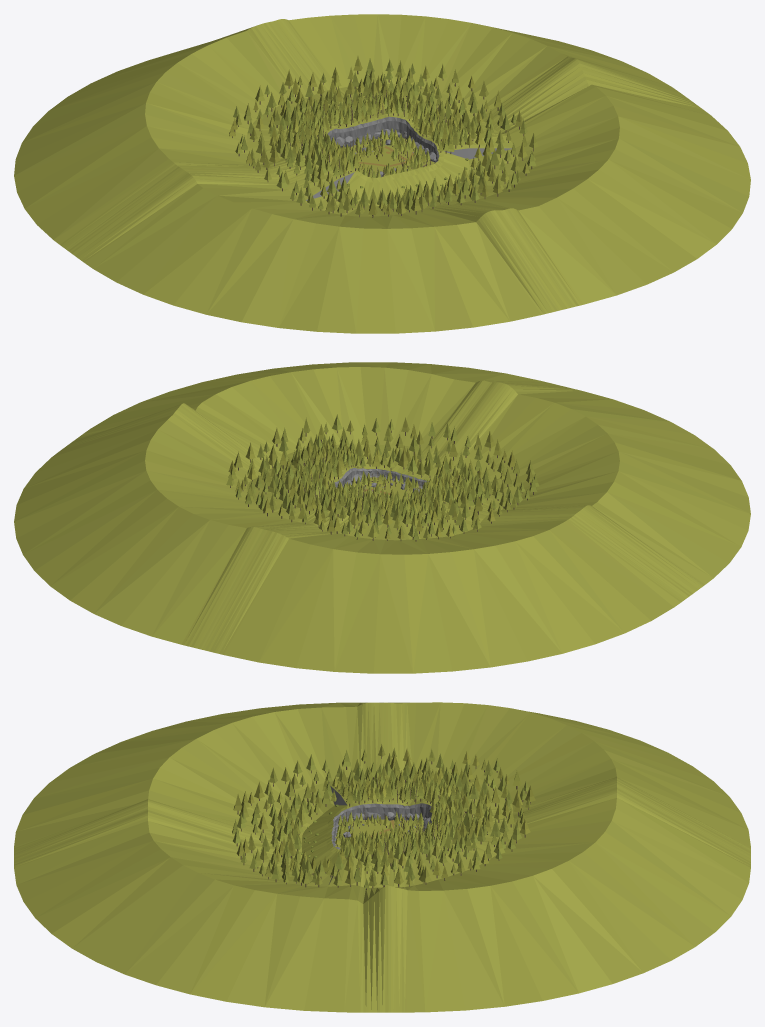
The model's file is unrender_forest.glb.
3 views of the same model, one above another, from view 1: azimuth 30°, elevation 25°; view 2: azimuth 150°, elevation 25°; view 3: azimuth 270°, elevation 25° (orthographic). The views are drawn at different scales.
Visible parts, largest first — view 1: terrain_far, trees_far, trees_rim, terrain, trees, rocks; view 2: terrain_far, trees_far, trees_rim, terrain, trees; view 3: terrain_far, trees_far, trees_rim, terrain, trees, rocks.
Part boxes in pixels (box(x1,y1,x2,y2)): terrain_far: box(14, 14, 750, 333); trees_far: box(229, 56, 538, 217); trees_rim: box(292, 86, 467, 178); terrain: box(324, 114, 444, 182); trees: box(336, 128, 430, 177); rocks: box(335, 129, 436, 177); terrain_far: box(14, 362, 750, 673); trees_far: box(226, 414, 539, 541); trees_rim: box(292, 444, 468, 515); terrain: box(329, 466, 428, 501); trees: box(346, 471, 428, 499); terrain_far: box(14, 702, 750, 1012); trees_far: box(232, 744, 535, 889); trees_rim: box(339, 773, 464, 858); terrain: box(326, 800, 436, 853); trees: box(335, 810, 425, 846); rocks: box(334, 812, 430, 849).
Size of what is drawn, in the model's own units: 219 by 24.17 by 220.
